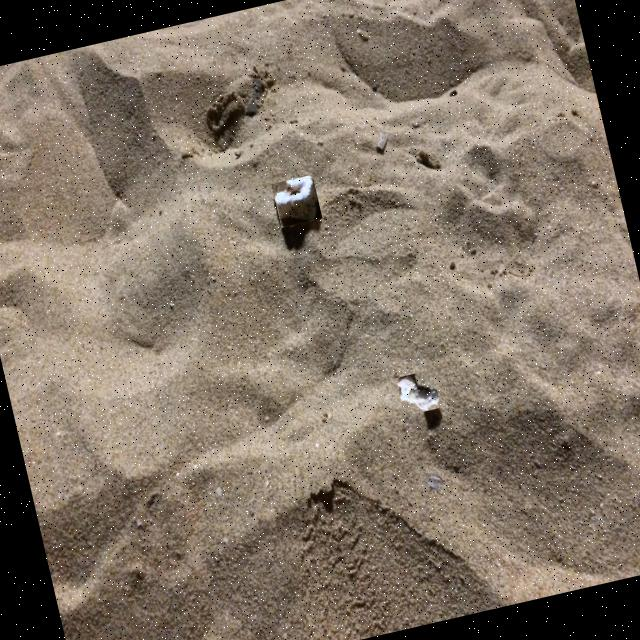Styrofoam piece: (275, 176, 318, 221), (398, 376, 440, 411)
